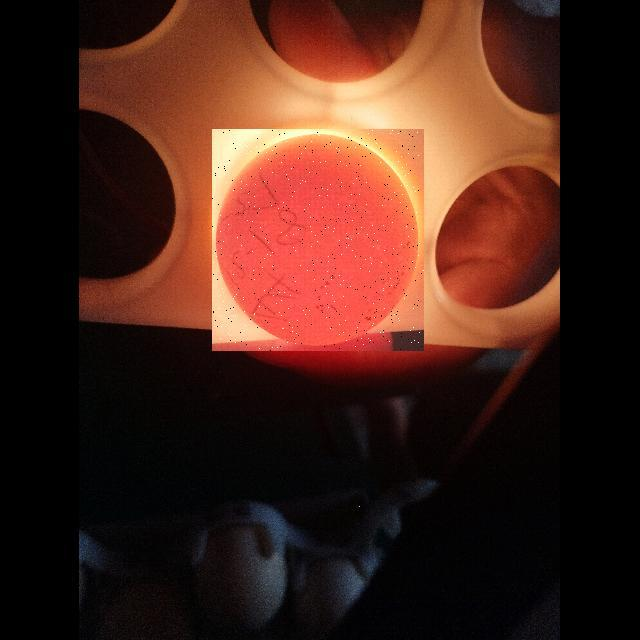Infertile: (212, 129, 424, 351)
